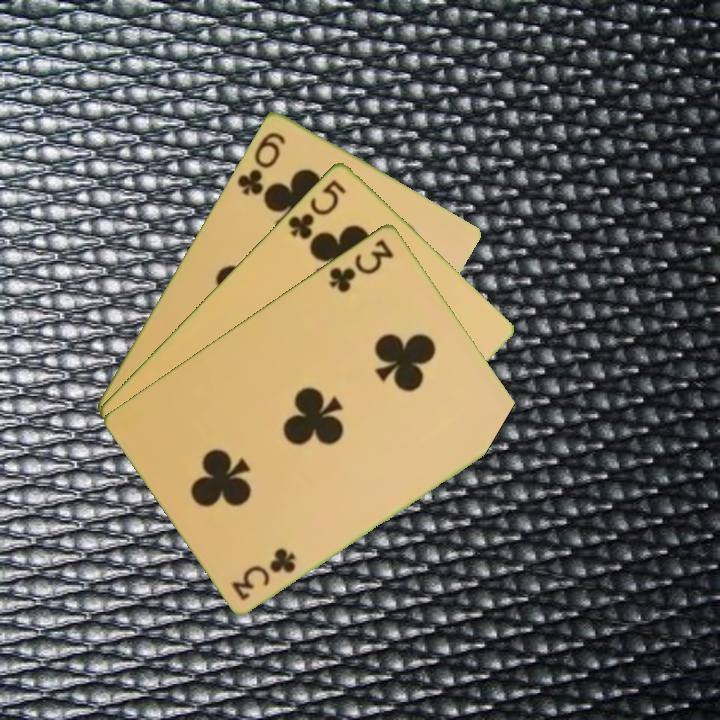3c: (325, 234, 397, 295), (229, 545, 299, 603)
5c: (284, 175, 350, 242)
6c: (233, 127, 288, 198)
